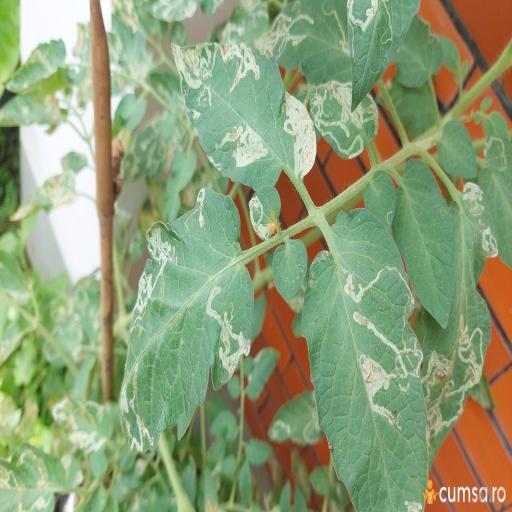disease_tomato: (299, 208, 429, 512), (123, 186, 255, 464), (166, 38, 316, 192), (420, 182, 500, 450), (256, 0, 356, 84), (306, 78, 380, 162), (250, 186, 282, 242)
